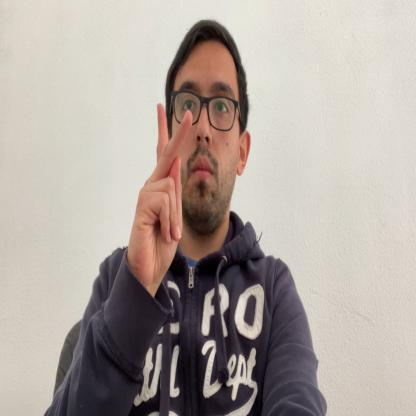P: (129, 101, 192, 301)
